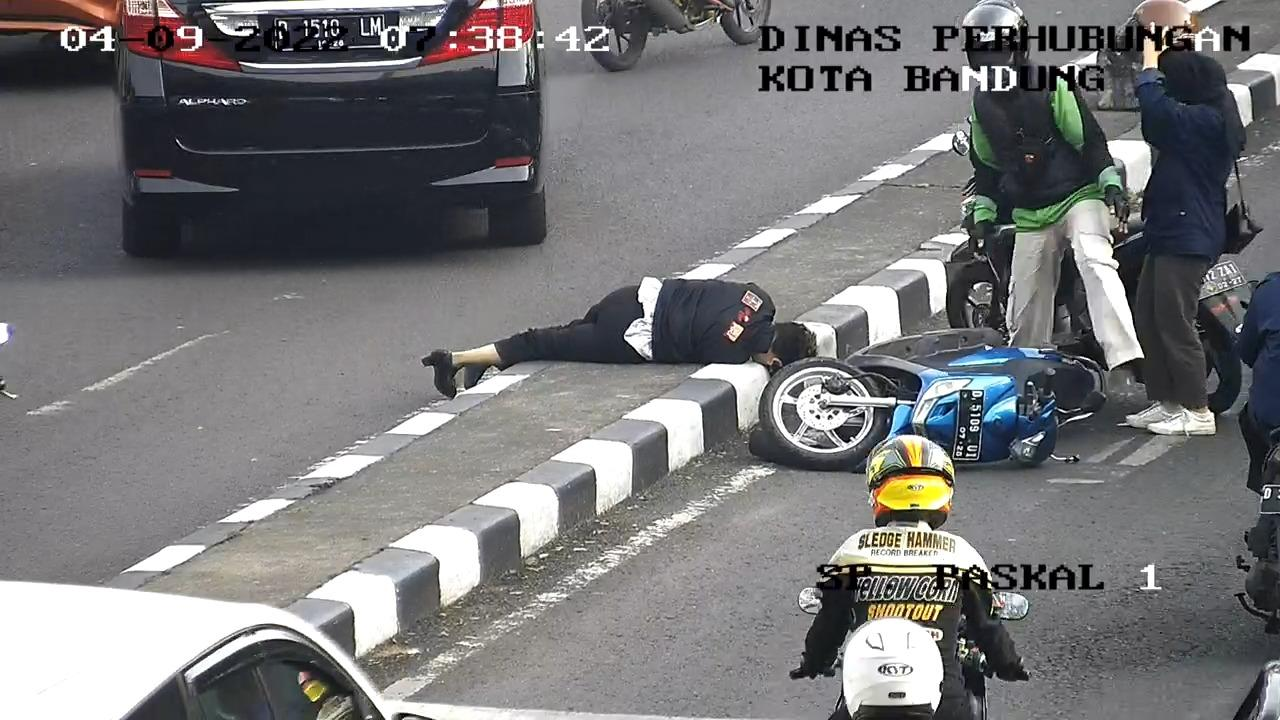accident: (408, 264, 834, 398), (635, 350, 635, 353)
